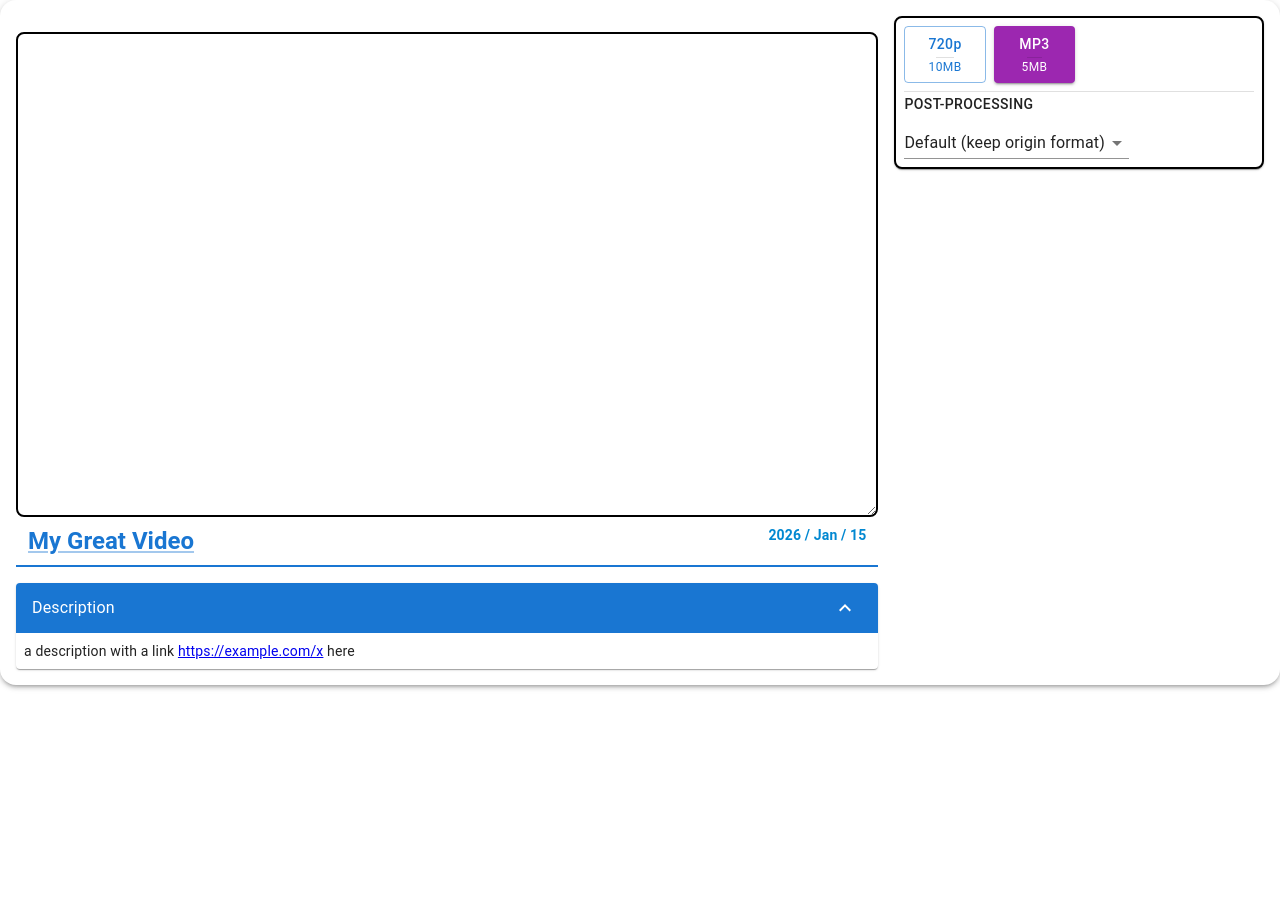
Test case: VideoDetailCard › toggles the description via the expand/collapse icon
The image size is (1280, 900).
Click the button named "Collapse description". click: (845, 608)
box: [828,591,862,625]
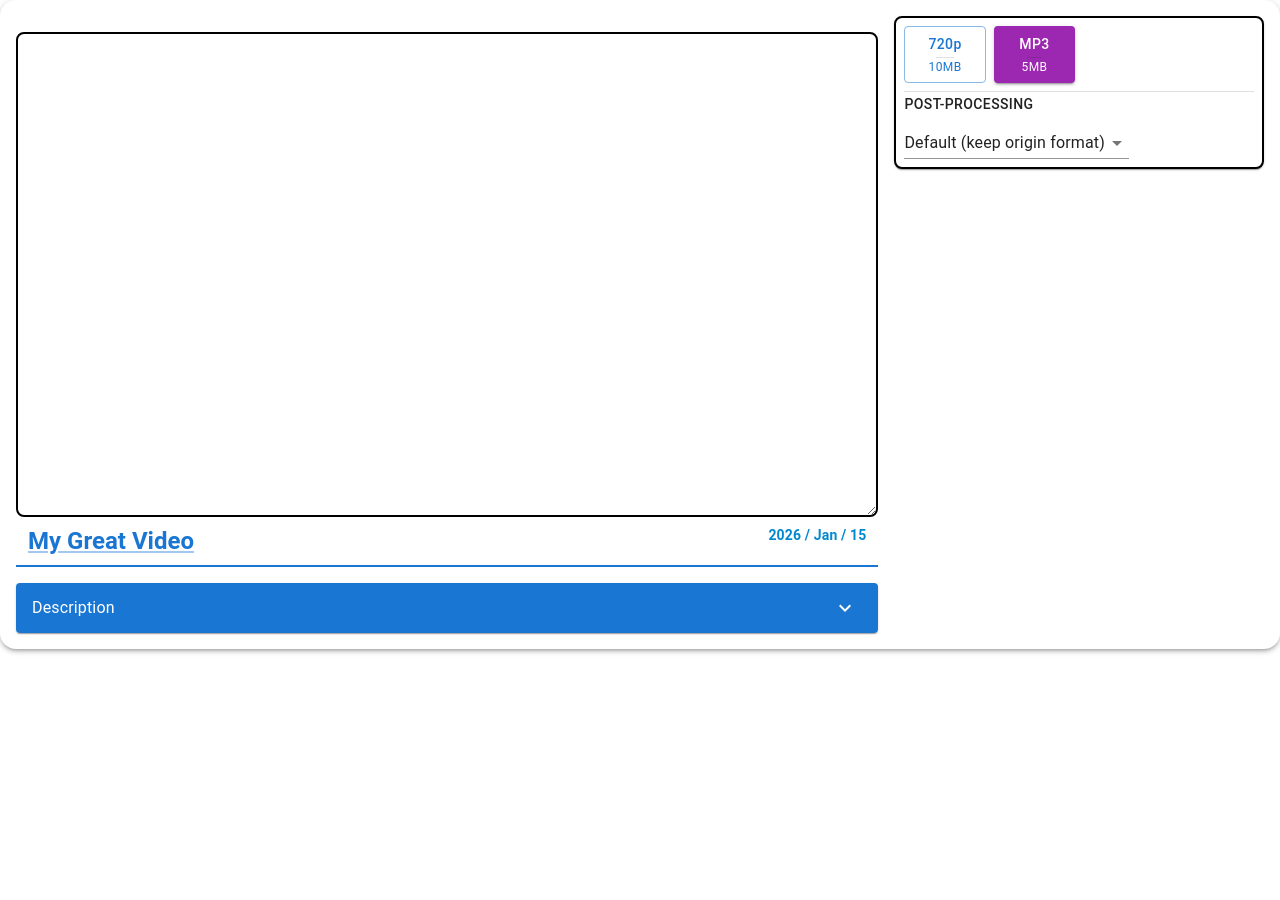
Now the button named "Expand description" is shown, box [828,591,862,625]
